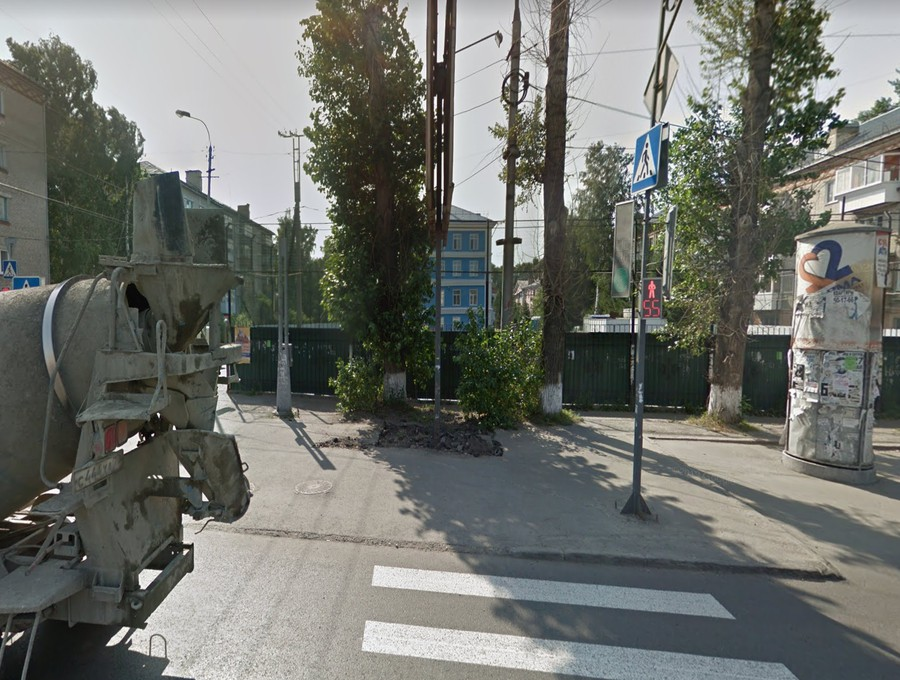Traffic Light-red: (641, 273, 665, 324)
